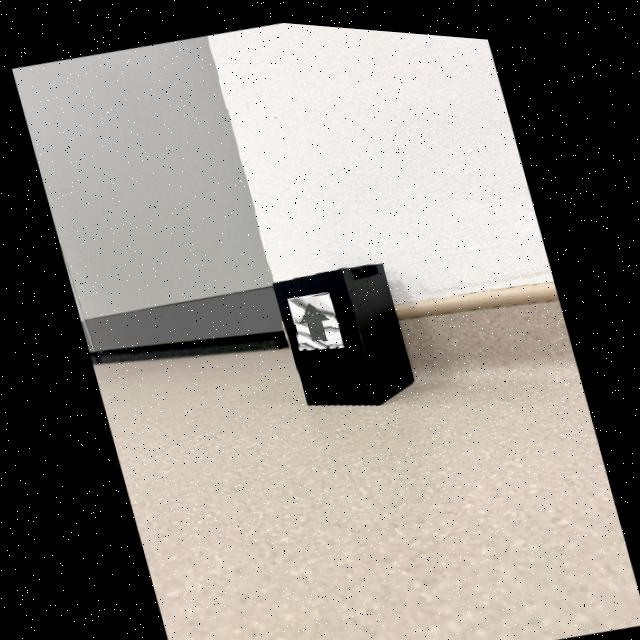UP: (298, 298, 329, 336)
